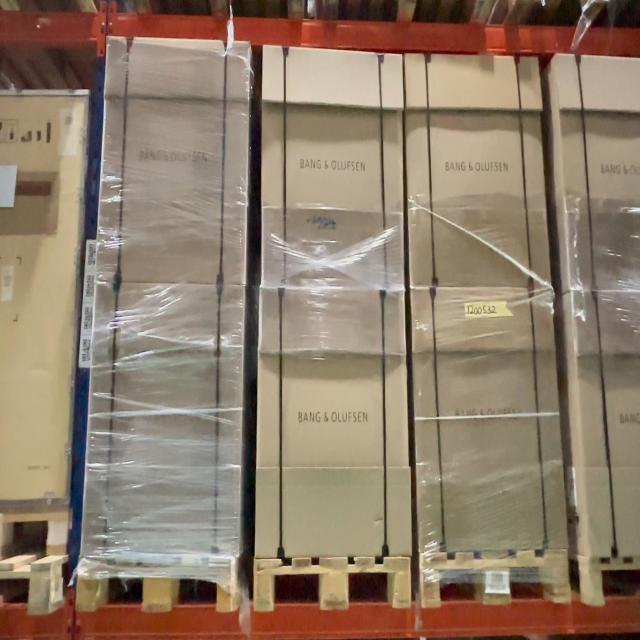box: (260, 291, 404, 558), (96, 289, 240, 555), (419, 290, 552, 551), (107, 39, 244, 282), (264, 56, 402, 286), (408, 57, 538, 286)
